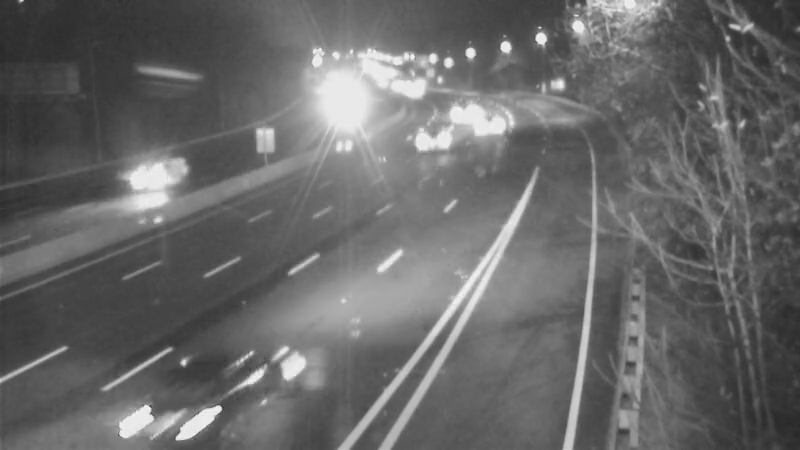vehicle: (128, 351, 238, 450), (117, 143, 197, 223), (435, 88, 485, 138), (466, 105, 516, 155), (414, 112, 464, 162), (315, 89, 365, 139)
